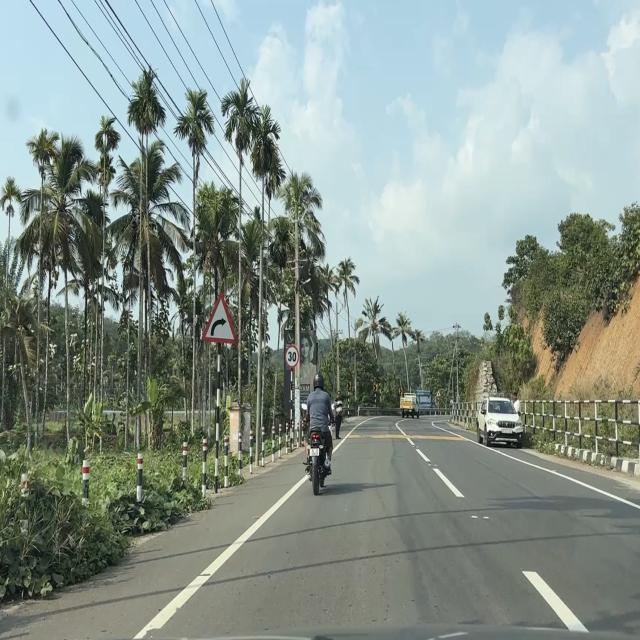RIGHT_TURN_AHEAD: (201, 292, 238, 345)
SPEED_LIMIT_30: (285, 345, 300, 368)
TURN_RIGHT: (347, 382, 351, 389)
